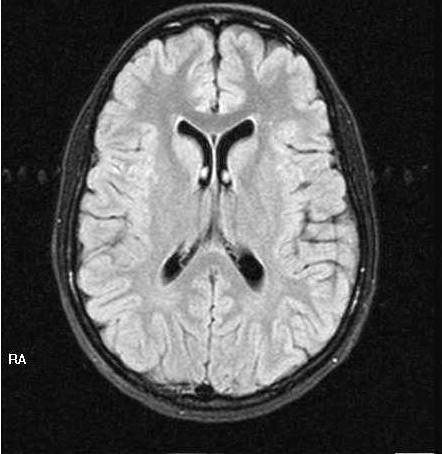Normal_Brain: (58, 2, 404, 454)
